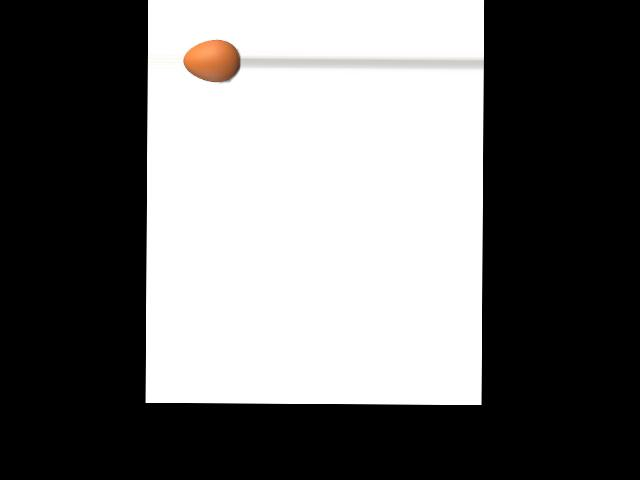egg: (184, 39, 240, 82)
